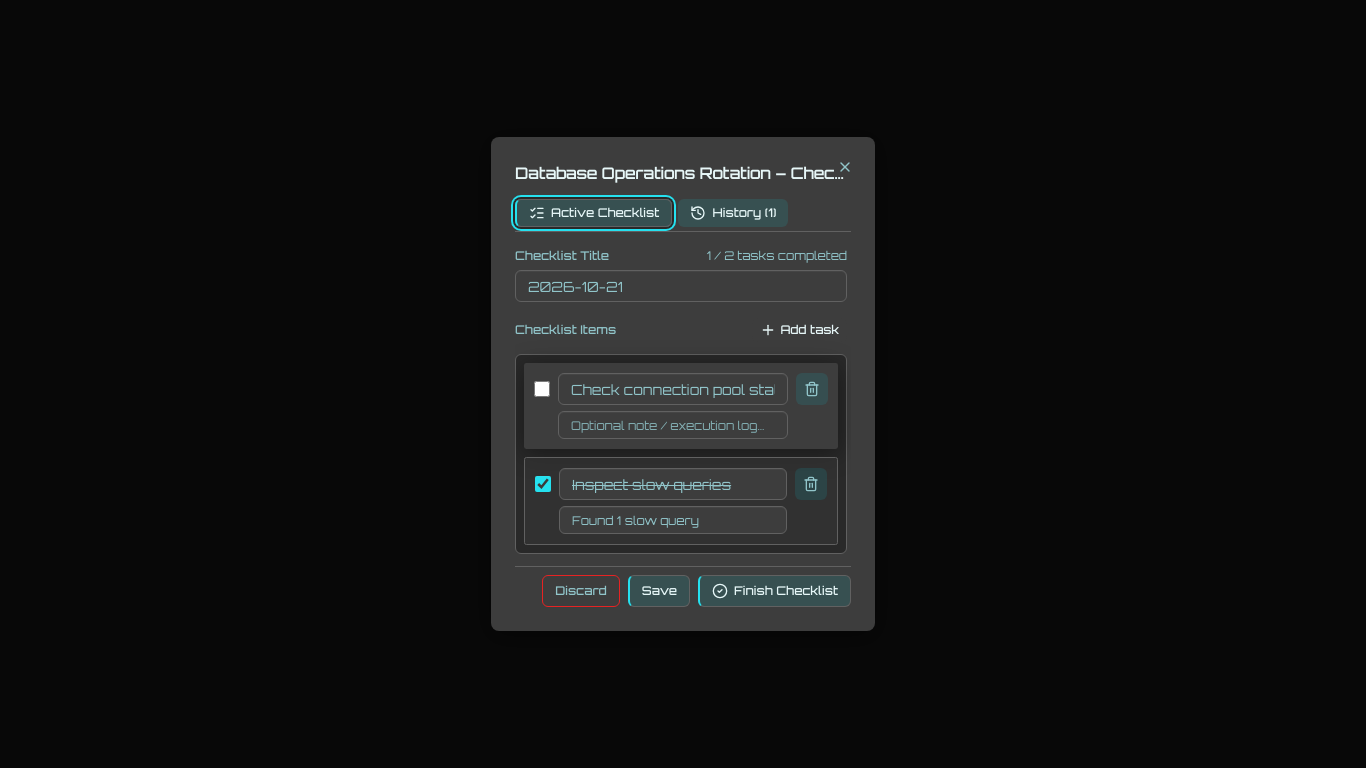
Test: GreenkeepingTasklistDialog › displays active checklist, supports editing items and saving
Later steps or results of the test are not shown.
Expected: the field showing "2026-10-21" below "Checklist Title" is shown, left=515, top=270, right=847, bottom=302
Expected: the 2nd field showing "Check connection pool stats" is shown, left=558, top=373, right=788, bottom=405
Step 1. Click the checkbox named "Mark task 1 done" → (542, 389), box left=534, top=381, right=550, bottom=397
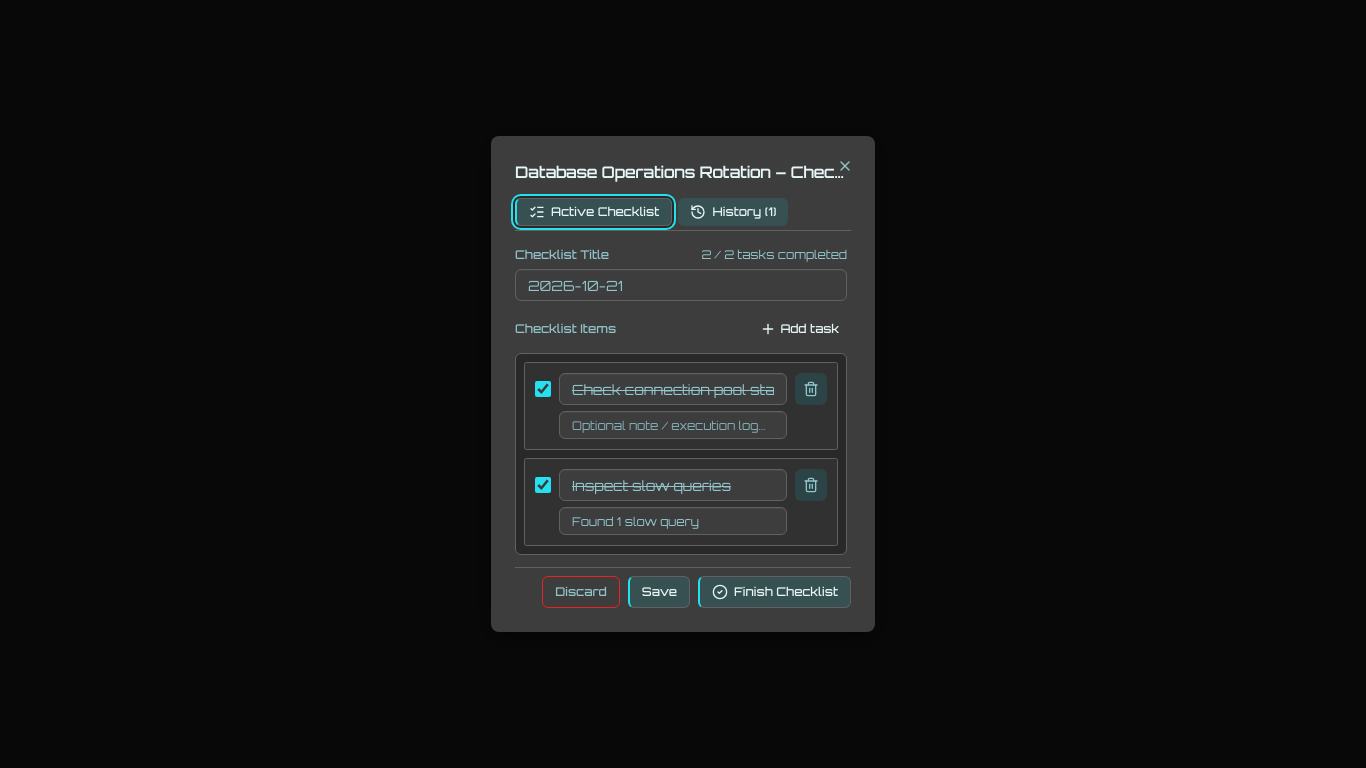
Expected: the checkbox named "Mark task 1 done" is checked, left=535, top=381, right=551, bottom=397
